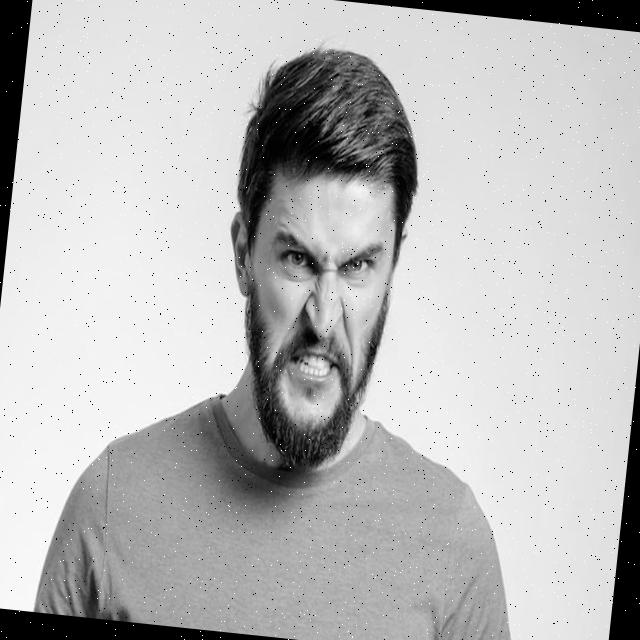Angry: (230, 172, 402, 465)
